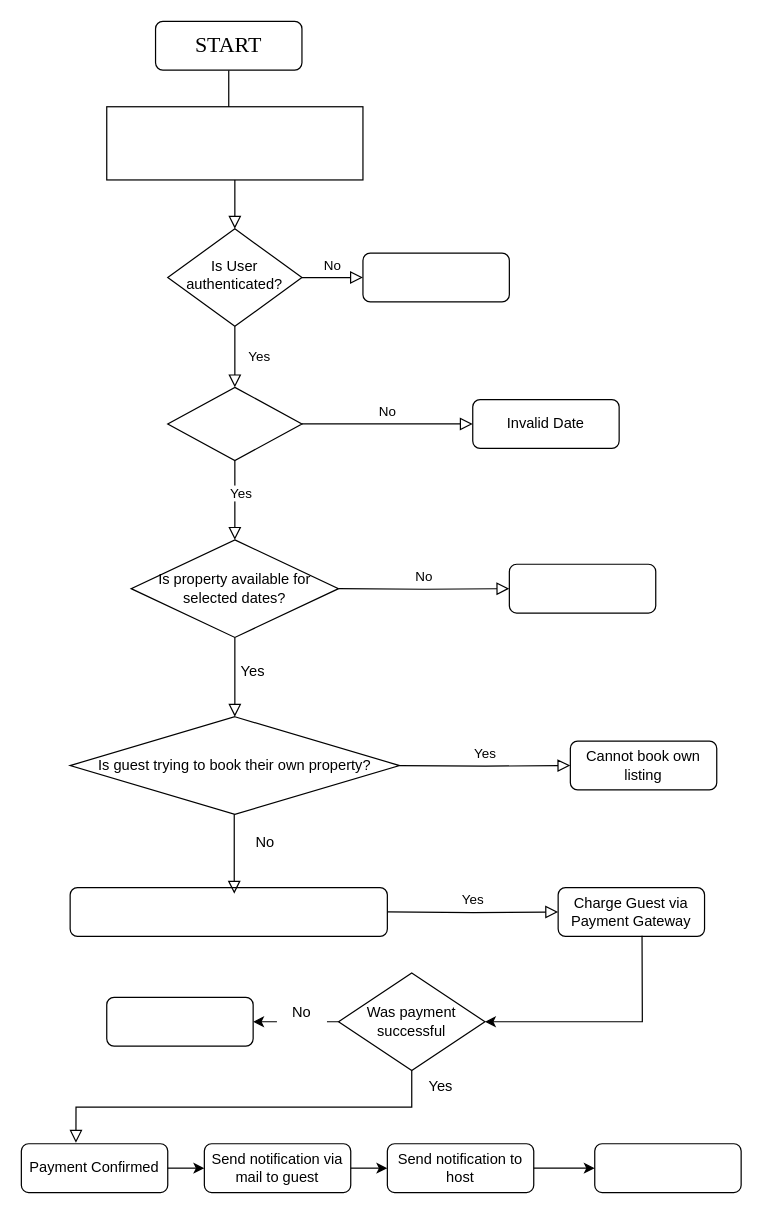
This 763x1214 diagram has some shape labels left out. The shapes that lost their labels are listed below. From the top down, each one's box as (x1, y1, x2, y2) in pixels, then its label:
(106, 106, 363, 180): Booking Request (property_id, start_date, end_date)
(362, 252, 509, 302): Login Required
(167, 386, 302, 461): Are dates valid ?
(508, 563, 656, 613): Not Available
(69, 886, 387, 936): Create pending booking record in DB
(106, 996, 253, 1046): Payment Failed: Cancel Booking
(594, 1143, 741, 1193): END
